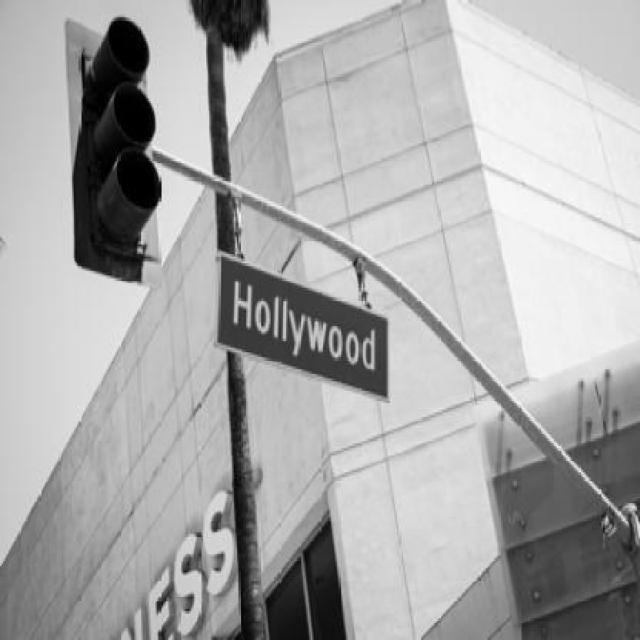Traffic_signal: (63, 12, 162, 288)
